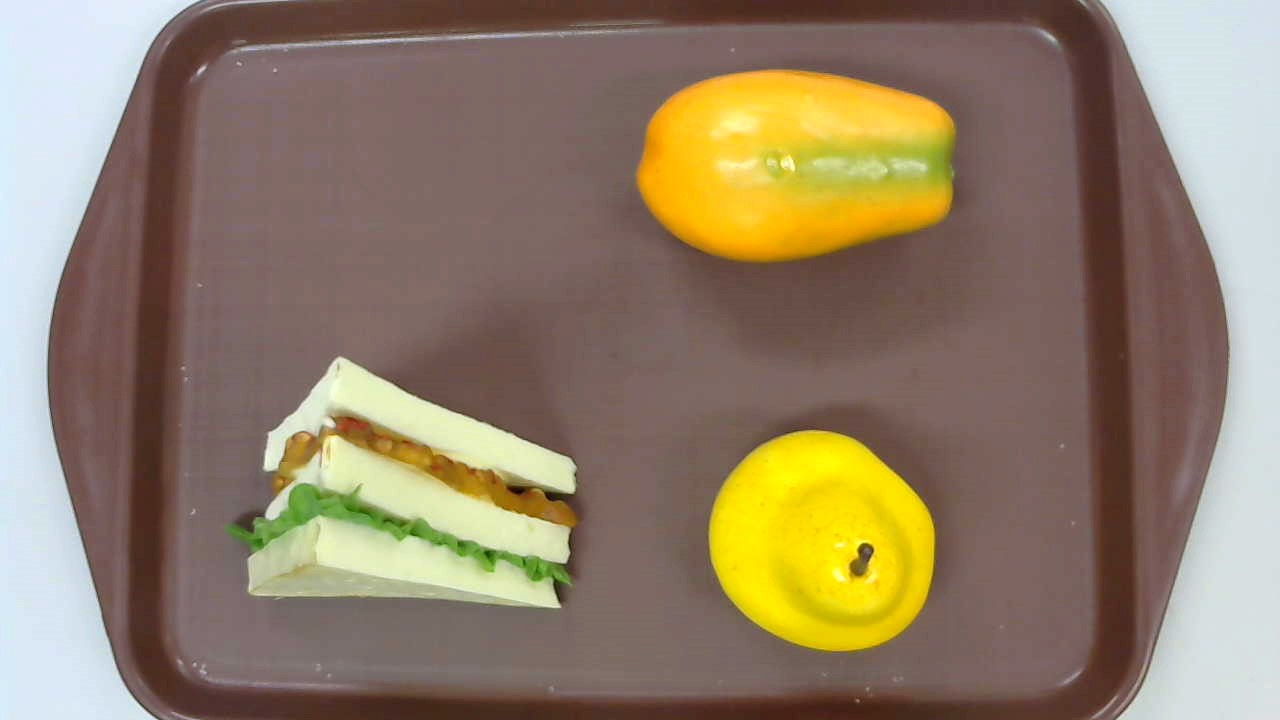papaya: (635, 69, 955, 265)
sandwich: (226, 356, 578, 610)
yellow pear: (707, 429, 934, 653)
